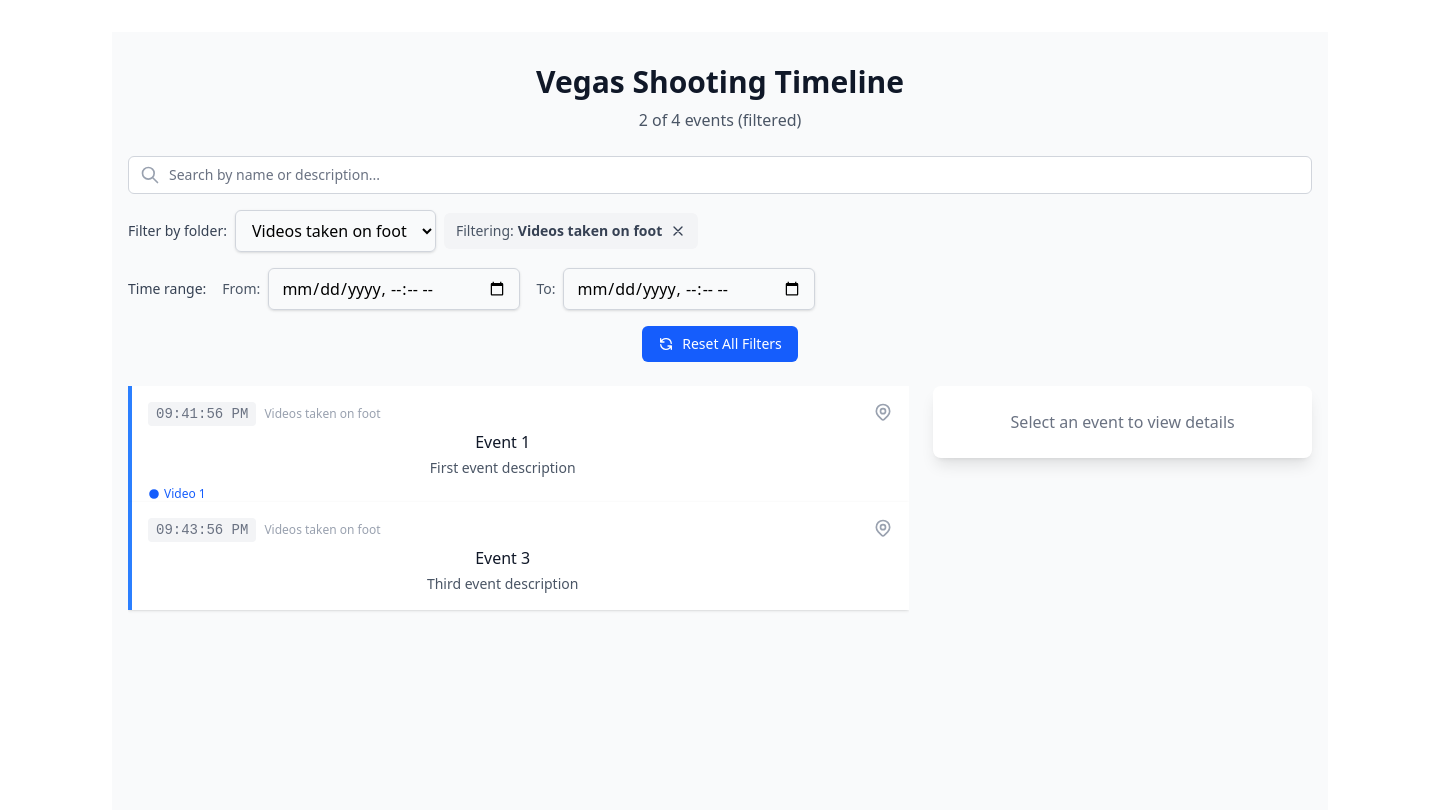
Scenario: Timeline - Folder Filter Integration › allows selecting filtered events
The width and height of the screenshot is (1440, 810).
Check: the dropdown is shown, box [235,210,436,252]
Check: the text "2 of 4 events (filtered)" is shown, box [639,109,801,131]
// Click on a filtered event
Step 1. Click the heading "Event 1" → (503,442), box [475,431,530,453]
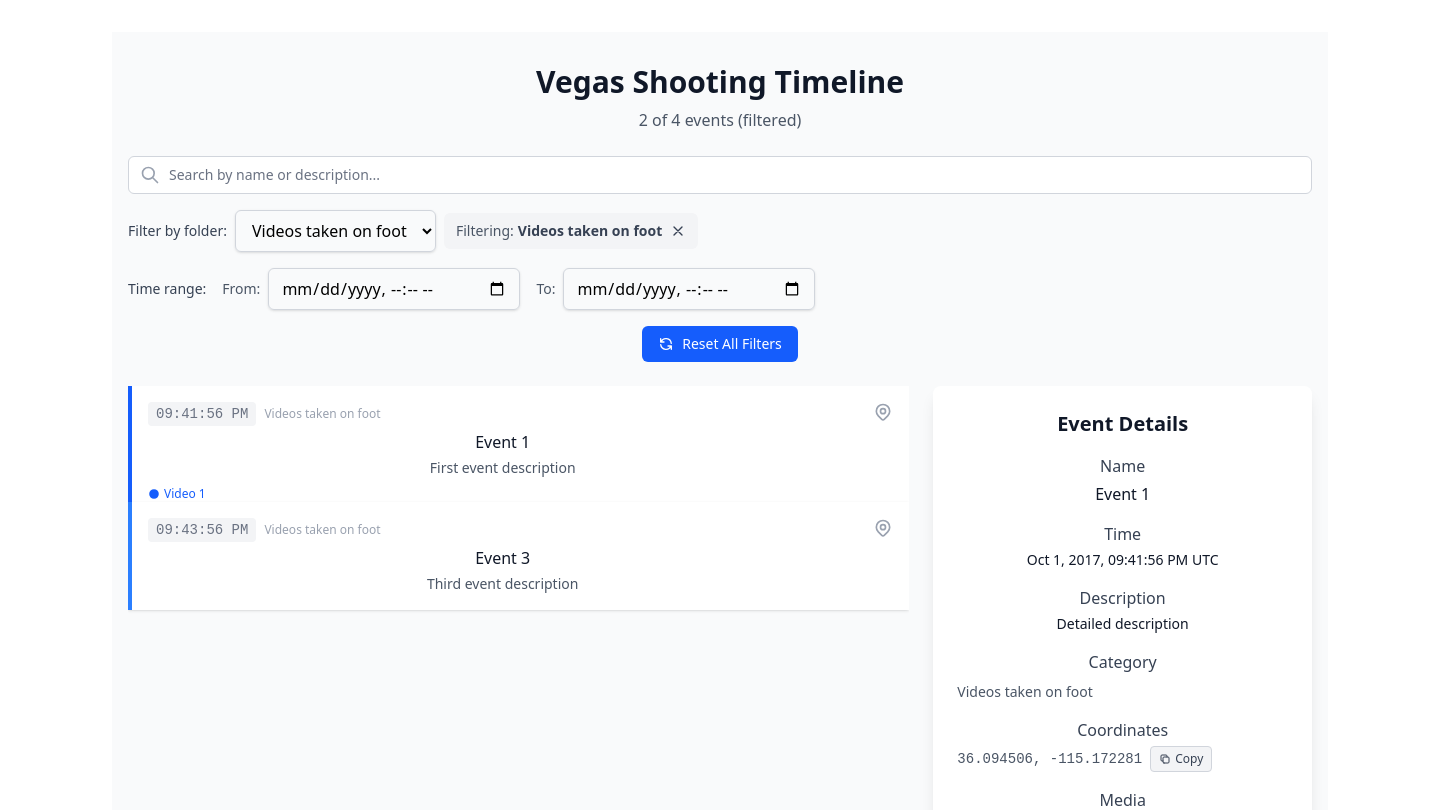
Check: the text "Detailed description" is shown, box [1057,614,1189,633]
